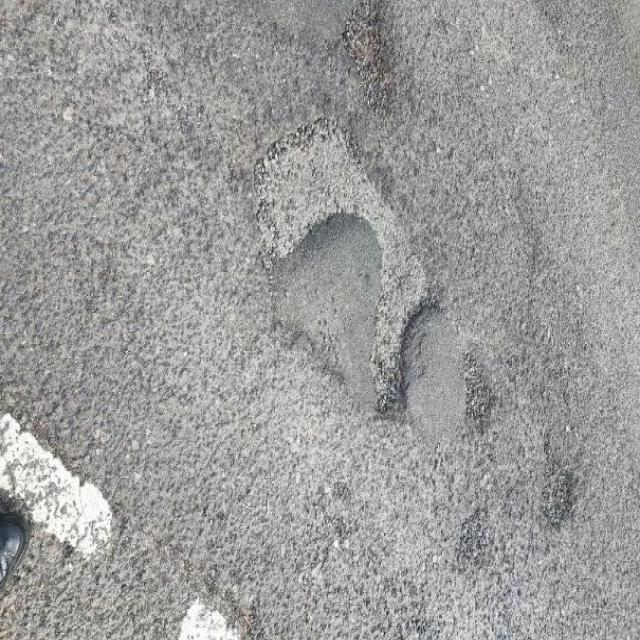Pothole: (222, 107, 448, 419)
